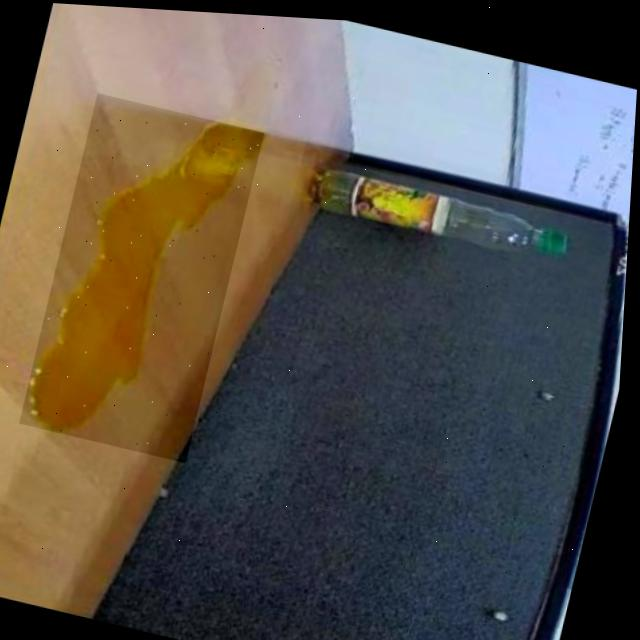spillage: (31, 118, 263, 430)
